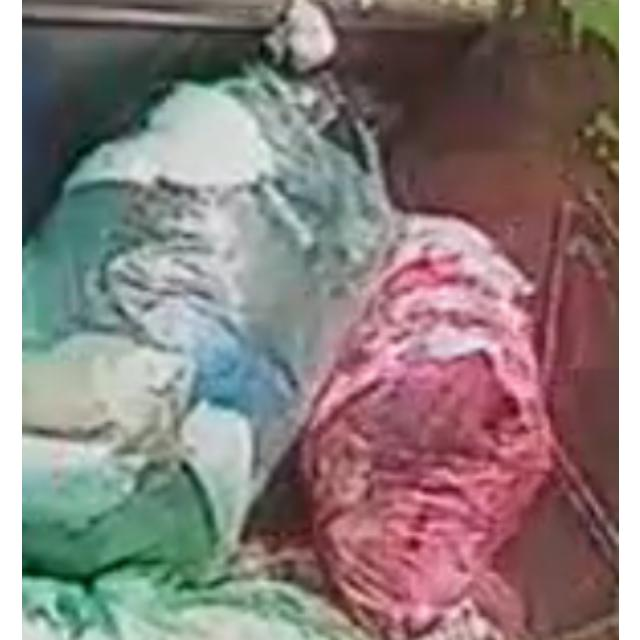general_trashbag: (22, 64, 388, 582), (22, 565, 368, 640)
other_trashbag: (307, 216, 550, 639)
